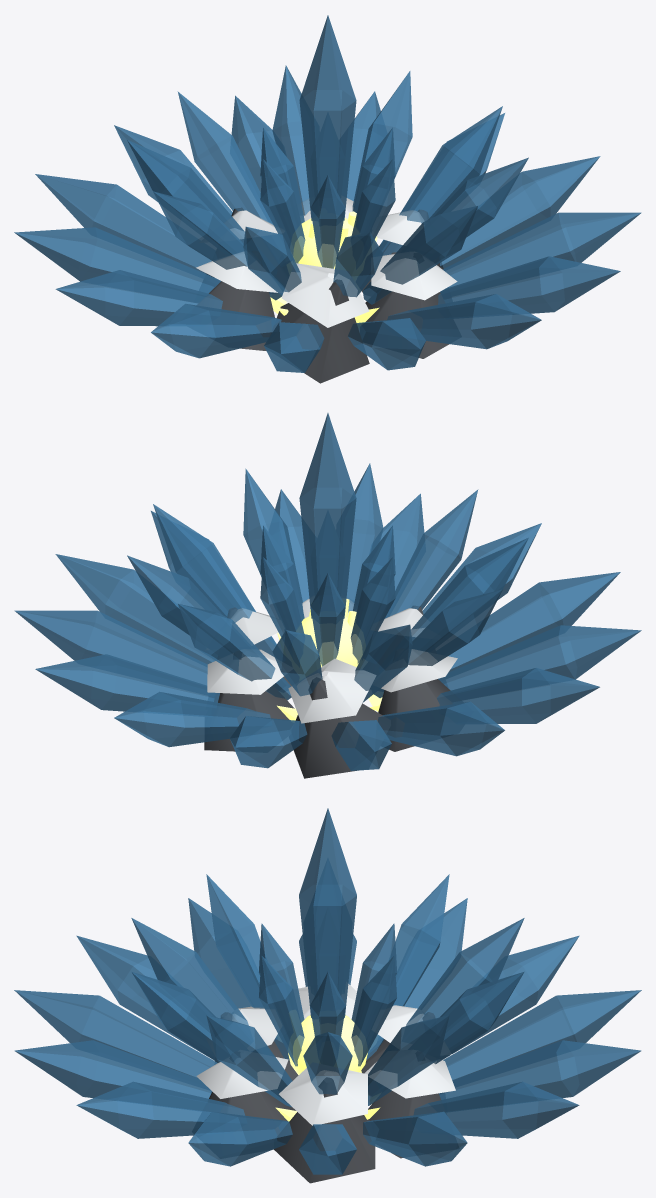
File: node-snow-bloom.glb
3 renders of one model, top to bottom at view 1: azimuth 30°, elevation 25°; view 2: azimuth 150°, elevation 25°; view 3: azimuth 270°, elevation 25°, orthographic. The views are drawn at different scales.
Visible parts, largest first — view 1: Mesh_CentralCrystal, Mesh_PetalOuter_13, Mesh_PetalOuter_6, Mesh_PetalOuter_5, Mesh_PetalOuter_12, Mesh_PetalOuter_7, Mesh_PetalOuter_0, Mesh_PetalOuter_11, Mesh_PetalMid_0, Mesh_PetalOuter_8, Mesh_PetalMid_3, Mesh_PetalMid_8 (+26 smaller); view 2: Mesh_CentralCrystal, Mesh_PetalOuter_1, Mesh_PetalOuter_9, Mesh_PetalOuter_8, Mesh_PetalOuter_2, Mesh_PetalOuter_7, Mesh_PetalOuter_0, Mesh_PetalOuter_3, Mesh_PetalMid_0, Mesh_PetalOuter_6, Mesh_PetalMid_7, Mesh_PetalMid_2 (+26 smaller); view 3: Mesh_CentralCrystal, Mesh_PetalOuter_4, Mesh_PetalOuter_10, Mesh_PetalOuter_11, Mesh_PetalOuter_3, Mesh_PetalOuter_12, Mesh_PetalOuter_2, Mesh_PetalOuter_1, Mesh_PetalMid_3, Mesh_PetalMid_7, Mesh_PetalOuter_13, Mesh_PetalMid_6 (+26 smaller).
Boxes of the visible parts, x1=… form: Mesh_CentralCrystal: x1=299, y1=15, x2=356, y2=220; Mesh_PetalOuter_13: x1=442, y1=212, x2=641, y2=288; Mesh_PetalOuter_6: x1=14, y1=227, x2=220, y2=293; Mesh_PetalOuter_5: x1=35, y1=174, x2=211, y2=275; Mesh_PetalOuter_12: x1=438, y1=256, x2=620, y2=313; Mesh_PetalOuter_7: x1=55, y1=270, x2=222, y2=326; Mesh_PetalOuter_0: x1=440, y1=156, x2=600, y2=268; Mesh_PetalOuter_11: x1=387, y1=294, x2=541, y2=349; Mesh_PetalMid_0: x1=379, y1=106, x2=502, y2=255; Mesh_PetalOuter_8: x1=151, y1=303, x2=281, y2=358; Mesh_PetalMid_3: x1=177, y1=91, x2=273, y2=224; Mesh_PetalMid_8: x1=363, y1=206, x2=477, y2=304; Mesh_CentralCrystal: x1=299, y1=413, x2=356, y2=618; Mesh_PetalOuter_1: x1=14, y1=610, x2=207, y2=685; Mesh_PetalOuter_9: x1=448, y1=572, x2=620, y2=672; Mesh_PetalOuter_8: x1=438, y1=625, x2=641, y2=690; Mesh_PetalOuter_2: x1=35, y1=654, x2=219, y2=711; Mesh_PetalOuter_7: x1=437, y1=668, x2=599, y2=723; Mesh_PetalOuter_0: x1=55, y1=554, x2=215, y2=664; Mesh_PetalOuter_3: x1=114, y1=691, x2=270, y2=747; Mesh_PetalMid_0: x1=153, y1=504, x2=276, y2=656; Mesh_PetalOuter_6: x1=378, y1=701, x2=504, y2=756; Mesh_PetalMid_7: x1=384, y1=489, x2=478, y2=618; Mesh_PetalMid_2: x1=178, y1=603, x2=291, y2=700; Mesh_CentralCrystal: x1=299, y1=808, x2=356, y2=1017; Mesh_PetalOuter_4: x1=443, y1=990, x2=641, y2=1080; Mesh_PetalOuter_10: x1=14, y1=990, x2=217, y2=1078; Mesh_PetalOuter_11: x1=14, y1=1040, x2=212, y2=1098; Mesh_PetalOuter_3: x1=438, y1=1040, x2=641, y2=1099; Mesh_PetalOuter_12: x1=76, y1=1081, x2=244, y2=1138; Mesh_PetalOuter_2: x1=413, y1=1081, x2=579, y2=1138; Mesh_PetalOuter_1: x1=363, y1=1111, x2=467, y2=1166; Mesh_PetalMid_3: x1=406, y1=918, x2=524, y2=1025; Mesh_PetalMid_7: x1=131, y1=918, x2=248, y2=1025; Mesh_PetalOuter_13: x1=188, y1=1111, x2=292, y2=1166; Mesh_PetalMid_6: x1=206, y1=874, x2=289, y2=1060.
Bounding box in the file's own units: 1.43 × 0.7919 × 1.4.
Materials: 3 (3 with a texture image).
